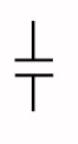Capacitor: (9, 46, 57, 85)
